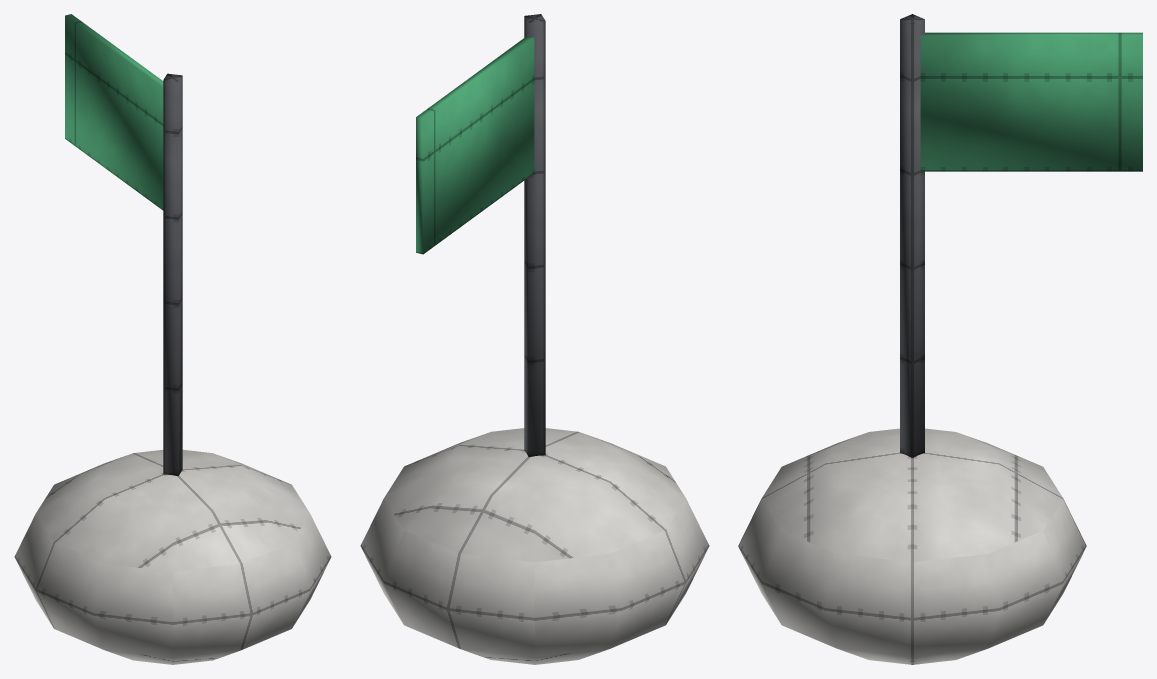
Rendered from marker_miss.gltf.
The picture shows the model from 3 angles, left to right: view 1: azimuth 30°, elevation 25°; view 2: azimuth 150°, elevation 25°; view 3: azimuth 270°, elevation 25°; orthographic projection. The views are drawn at different scales.
Parts seen in each view (by area): view 1: marker_miss_body; view 2: marker_miss_body; view 3: marker_miss_body.
Boxes of the visible parts, left/top/right/bottom form: marker_miss_body: left=14, top=14, right=331, bottom=664; marker_miss_body: left=360, top=14, right=709, bottom=664; marker_miss_body: left=738, top=14, right=1142, bottom=664.
Size of the model in its own units: 0.84 by 1.65 by 0.975.
3 materials, 3 textured.
